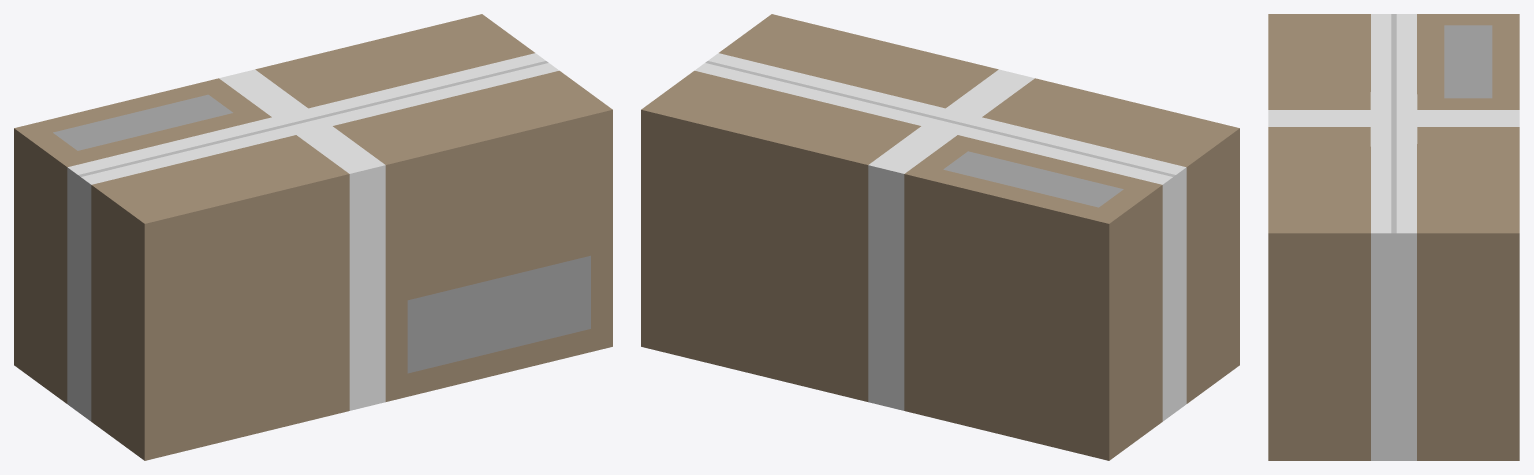
The model's file is Caja de compra 2.fbx.
3 views of the same model, side by side, from view 1: azimuth 30°, elevation 25°; view 2: azimuth 150°, elevation 25°; view 3: azimuth 270°, elevation 25° (orthographic). The views are drawn at different scales.
Parts seen in each view (by area): view 1: Caja_de_compra_2; view 2: Caja_de_compra_2; view 3: Caja_de_compra_2.
Part boxes in pixels (x1=…): Caja_de_compra_2: x1=14, y1=14, x2=612, y2=460; Caja_de_compra_2: x1=641, y1=14, x2=1239, y2=460; Caja_de_compra_2: x1=1268, y1=14, x2=1519, y2=460.
Size of the model in its own units: 1.45 by 0.7031 by 0.7031.
